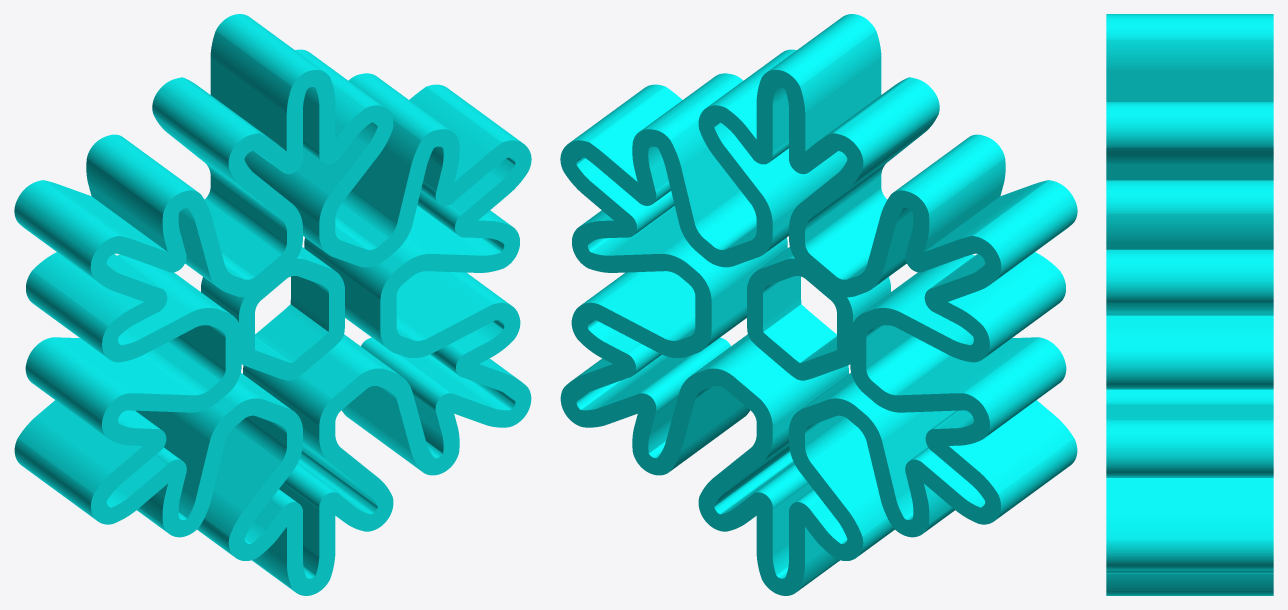
File: ice2.gltf
The picture shows the model from 3 angles, left to right: view 1: azimuth 30°, elevation 25°; view 2: azimuth 150°, elevation 25°; view 3: azimuth 270°, elevation 25°; orthographic projection. The views are drawn at different scales.
Visible parts, largest first — view 1: Curve.009, Curve.012; view 2: Curve.009, Curve.012; view 3: Curve.009.
Boxes of the visible parts, box(x1,y1,x2,y2) form: Curve.009: box(14, 14, 531, 595); Curve.012: box(201, 247, 344, 380); Curve.009: box(560, 14, 1077, 595); Curve.012: box(747, 247, 890, 380); Curve.009: box(1106, 14, 1273, 595).
Bounding box in the file's own units: 4 × 4.56 × 1.2.
